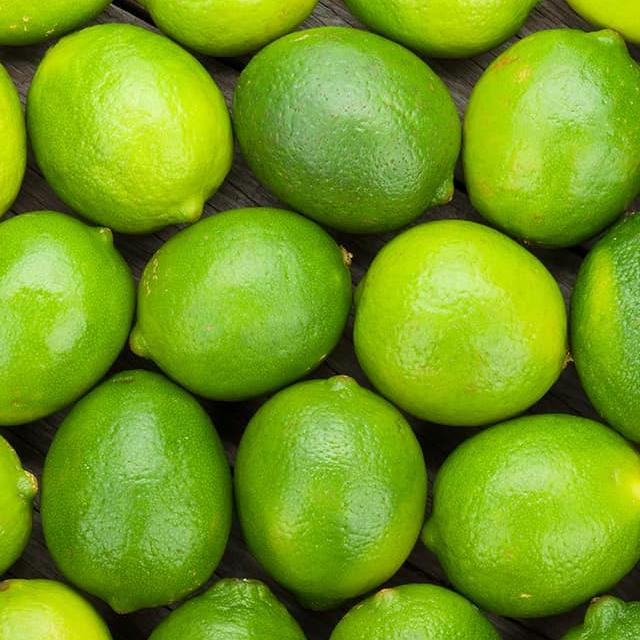lime: (39, 370, 236, 616), (235, 26, 461, 238), (236, 380, 426, 614), (129, 208, 355, 404), (29, 22, 235, 236), (426, 416, 640, 622), (459, 28, 640, 248), (356, 228, 565, 410), (0, 209, 138, 433), (572, 206, 640, 450), (343, 0, 548, 56), (142, 0, 319, 64), (146, 580, 311, 640), (330, 586, 504, 640), (0, 578, 115, 640)
